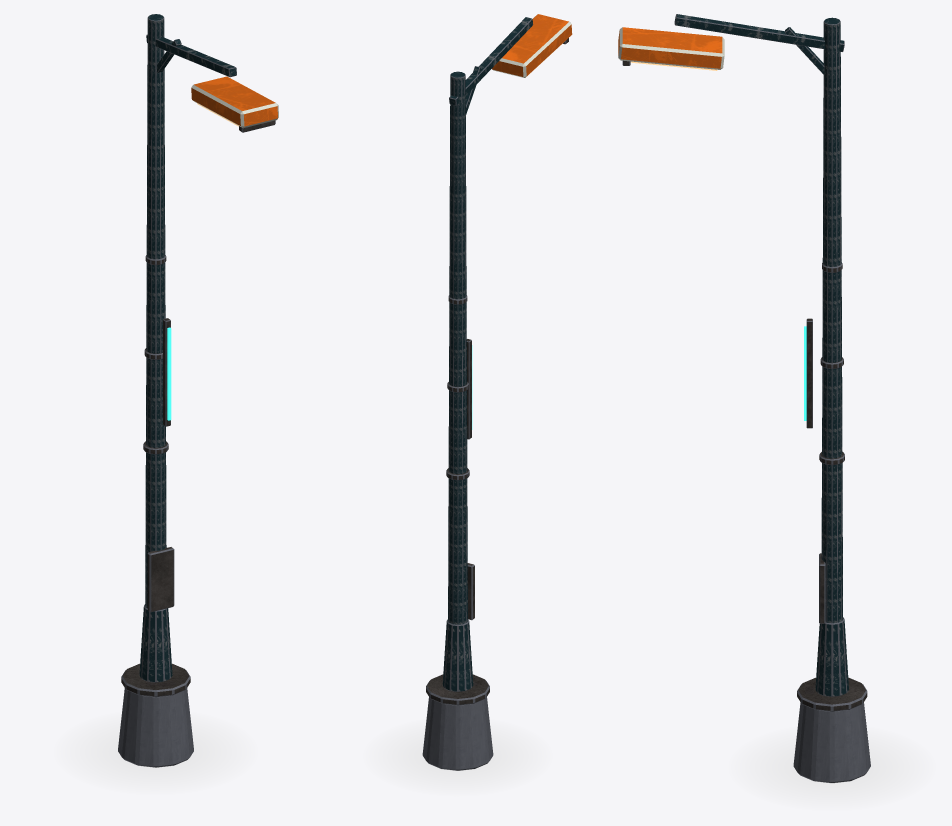
File: street_light.glb
3 views of the same model, side by side, from view 1: azimuth 30°, elevation 25°; view 2: azimuth 150°, elevation 25°; view 3: azimuth 270°, elevation 25° (orthographic). The views are drawn at different scales.
Parts seen in each view (by area): view 1: street_light_LOD0, street_light_contact; view 2: street_light_LOD0, street_light_contact; view 3: street_light_LOD0, street_light_contact.
Boxes of the visible parts, x1=… form: street_light_LOD0: x1=118, y1=14, x2=278, y2=767; street_light_contact: x1=62, y1=715, x2=249, y2=791; street_light_LOD0: x1=422, y1=14, x2=572, y2=770; street_light_contact: x1=371, y1=722, x2=544, y2=792; street_light_LOD0: x1=618, y1=14, x2=870, y2=782; street_light_contact: x1=737, y1=730, x2=926, y2=807.
Size of what is drawn, in the model's own units: 1.6 by 6.3 by 2.42.
6 materials, 4 textured.
